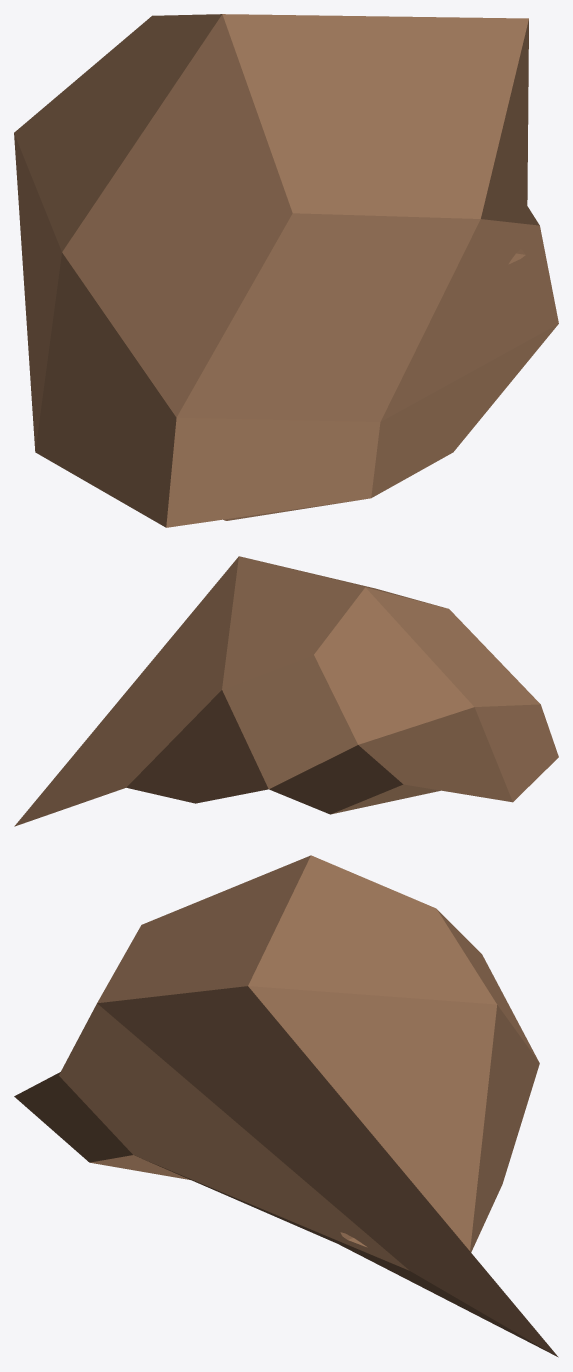
File: Pebble2.fbx
3 views of the same model, one above another, from view 1: azimuth 30°, elevation 25°; view 2: azimuth 150°, elevation 25°; view 3: azimuth 270°, elevation 25° (orthographic). The views are drawn at different scales.
Visible parts, largest first — view 1: Pebble2; view 2: Pebble2; view 3: Pebble2.
Part boxes in pixels (x1=…): Pebble2: x1=14, y1=14, x2=558, y2=527; Pebble2: x1=14, y1=556, x2=558, y2=826; Pebble2: x1=14, y1=855, x2=558, y2=1357.
Bounding box in the file's own units: 0.1726 × 0.101 × 0.1527.
Materials: 1 (1 with a texture image).
